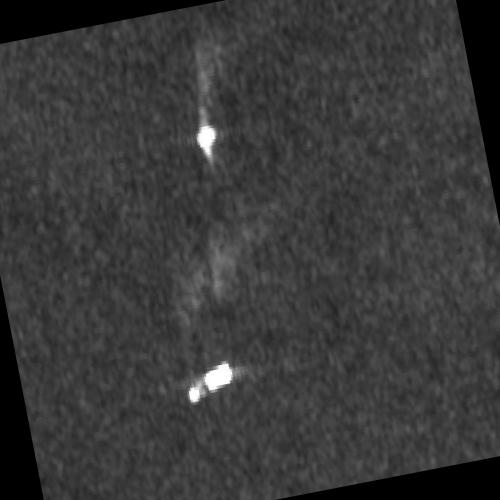ship: (187, 359, 236, 406), (197, 108, 217, 159)
